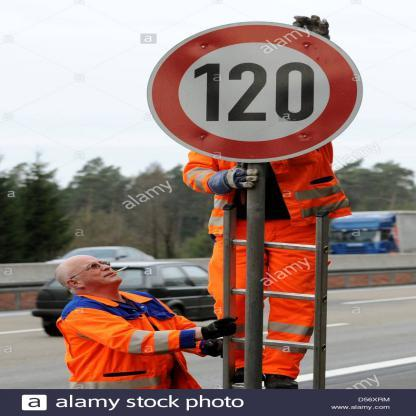Speed Limit 120: (150, 25, 358, 162)
